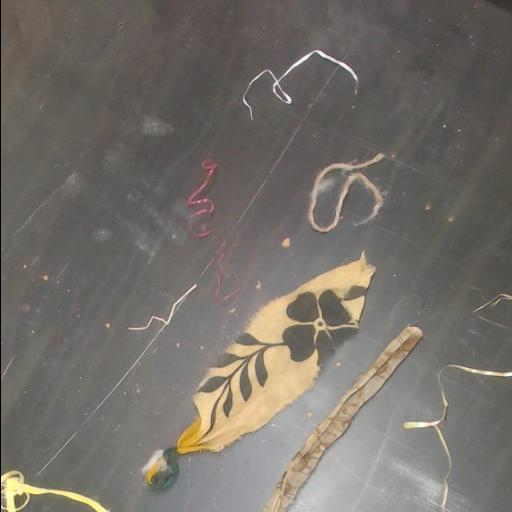cloth: (177, 254, 374, 451), (264, 326, 422, 511)
conveyor belt: (1, 0, 512, 511)
thread: (402, 364, 512, 511), (87, 283, 196, 418), (242, 49, 358, 119), (307, 153, 385, 232), (1, 470, 109, 511), (473, 293, 512, 311), (143, 451, 162, 474)
